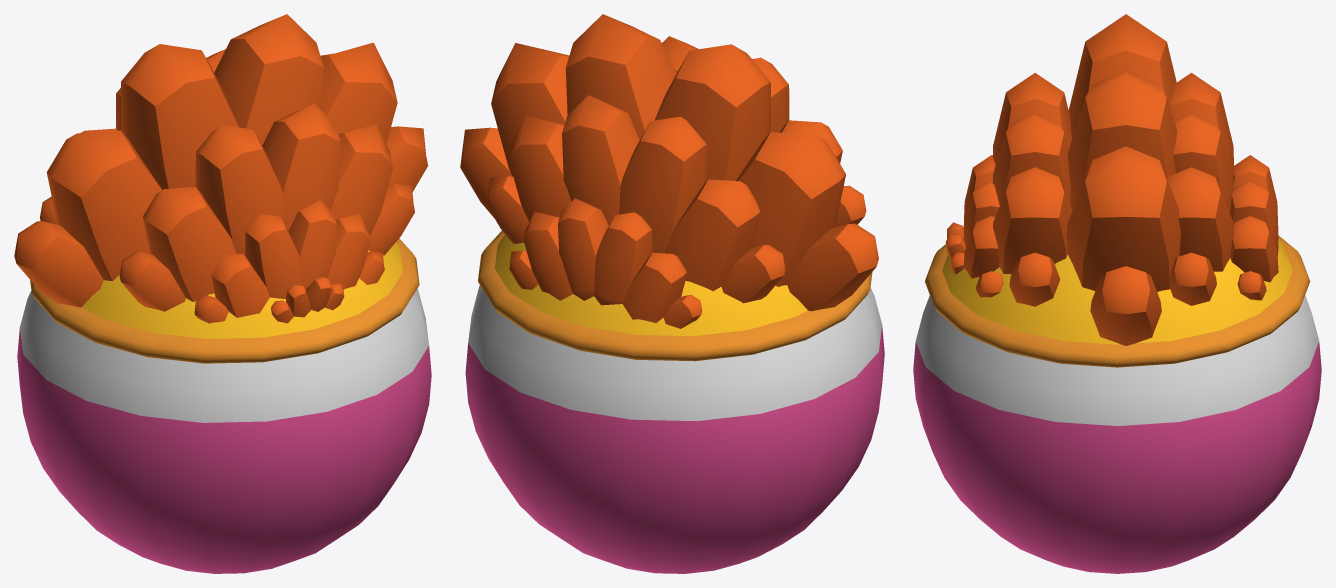
Rendered from bolitas1.2.fbx.
3 renders of one model, left to right at view 1: azimuth 30°, elevation 25°; view 2: azimuth 150°, elevation 25°; view 3: azimuth 270°, elevation 25°, orthographic. The views are drawn at different scales.
Parts seen in each view (by area): view 1: pasted__pSphere6, pasted__pasted__pasted__pCube8, pasted__pasted__pCube8, pasted__pCube8, pasted__pTorus3, pasted__pasted__pSphere5, pasted__pasted__pasted__pCube8.001, pasted__pasted__pCube8.001, pasted__pasted__pasted__pasted__pCube8, pasted__pasted__pasted__pasted__pasted__pasted__pCube8, pasted__pasted__pasted__pasted__pasted__pCube8.001, pasted__pasted__pasted__pasted__pCube8.003 (+10 smaller); view 2: pasted__pSphere6, pasted__pTorus3, pasted__pasted__pCube8, pasted__pCube8, pasted__pasted__pasted__pCube8, pasted__pasted__pSphere5, pasted__pasted__pasted__pasted__pCube8.002, pasted__pasted__pasted__pCube8.002, pasted__pasted__pasted__pasted__pasted__pCube8.002, pasted__pasted__pasted__pasted__pCube8, pasted__pasted__pasted__pasted__pasted__pasted__pCube8, pasted__pasted__pasted__pasted__pasted__pasted__pCube8.002 (+11 smaller); view 3: pasted__pSphere6, pasted__pasted__pasted__pCube8, pasted__pasted__pasted__pasted__pCube8, pasted__pasted__pSphere5, pasted__pTorus3, pasted__pasted__pasted__pasted__pasted__pCube8.001, pasted__pasted__pCube8, pasted__pasted__pasted__pasted__pasted__pasted__pasted__pCu. (×3), pasted__pasted__pasted__pasted__pasted__pasted__pCube8.002, pasted__pasted__pasted__pasted__pasted__pCube8, pasted__pasted__pasted__pasted__pasted__pCube8.002, pasted__pasted__pasted__pCube8.001 (+8 smaller).
Part boxes in pixels (left/top/right/bottom): pasted__pSphere6: left=17, top=288, right=431, bottom=573; pasted__pasted__pasted__pCube8: left=214, top=14, right=340, bottom=230; pasted__pasted__pCube8: left=121, top=44, right=238, bottom=189; pasted__pCube8: left=46, top=130, right=161, bottom=281; pasted__pTorus3: left=30, top=238, right=419, bottom=363; pasted__pasted__pSphere5: left=82, top=242, right=402, bottom=338; pasted__pasted__pasted__pCube8.001: left=195, top=125, right=283, bottom=255; pasted__pasted__pCube8.001: left=142, top=187, right=236, bottom=301; pasted__pasted__pasted__pasted__pCube8: left=320, top=42, right=397, bottom=143; pasted__pasted__pasted__pasted__pasted__pasted__pCube8: left=14, top=221, right=103, bottom=307; pasted__pasted__pasted__pasted__pasted__pCube8.001: left=331, top=124, right=393, bottom=235; pasted__pasted__pasted__pasted__pCube8.003: left=245, top=214, right=300, bottom=299; pasted__pSphere6: left=465, top=285, right=884, bottom=573; pasted__pTorus3: left=478, top=231, right=872, bottom=361; pasted__pasted__pCube8: left=654, top=44, right=770, bottom=181; pasted__pCube8: left=736, top=132, right=845, bottom=286; pasted__pasted__pasted__pCube8: left=565, top=14, right=698, bottom=139; pasted__pasted__pSphere5: left=494, top=234, right=807, bottom=336; pasted__pasted__pasted__pasted__pCube8.002: left=619, top=116, right=706, bottom=253; pasted__pasted__pasted__pCube8.002: left=665, top=179, right=760, bottom=291; pasted__pasted__pasted__pasted__pasted__pCube8.002: left=562, top=95, right=639, bottom=225; pasted__pasted__pasted__pasted__pCube8: left=491, top=43, right=569, bottom=176; pasted__pasted__pasted__pasted__pasted__pasted__pCube8: left=787, top=223, right=878, bottom=311; pasted__pasted__pasted__pasted__pasted__pasted__pCube8.002: left=508, top=115, right=571, bottom=221; pasted__pSphere6: left=913, top=295, right=1321, bottom=573; pasted__pasted__pasted__pCube8: left=992, top=70, right=1177, bottom=210; pasted__pasted__pasted__pasted__pCube8: left=1066, top=146, right=1180, bottom=291; pasted__pasted__pSphere5: left=942, top=239, right=1292, bottom=344; pasted__pTorus3: left=924, top=235, right=1310, bottom=367; pasted__pasted__pasted__pasted__pasted__pCube8.001: left=993, top=167, right=1072, bottom=274; pasted__pasted__pCube8: left=1068, top=14, right=1176, bottom=139; pasted__pasted__pasted__pasted__pasted__pasted__pasted__pCu. (×3): left=975, top=216, right=1278, bottom=305; pasted__pasted__pasted__pasted__pasted__pasted__pCube8.002: left=1167, top=167, right=1233, bottom=271; pasted__pasted__pasted__pasted__pasted__pCube8: left=1090, top=266, right=1161, bottom=345; pasted__pasted__pasted__pasted__pasted__pCube8.002: left=1173, top=112, right=1234, bottom=212; pasted__pasted__pasted__pCube8.001: left=992, top=73, right=1071, bottom=164.
Bounding box in the file's own units: 225 × 274 × 198.
